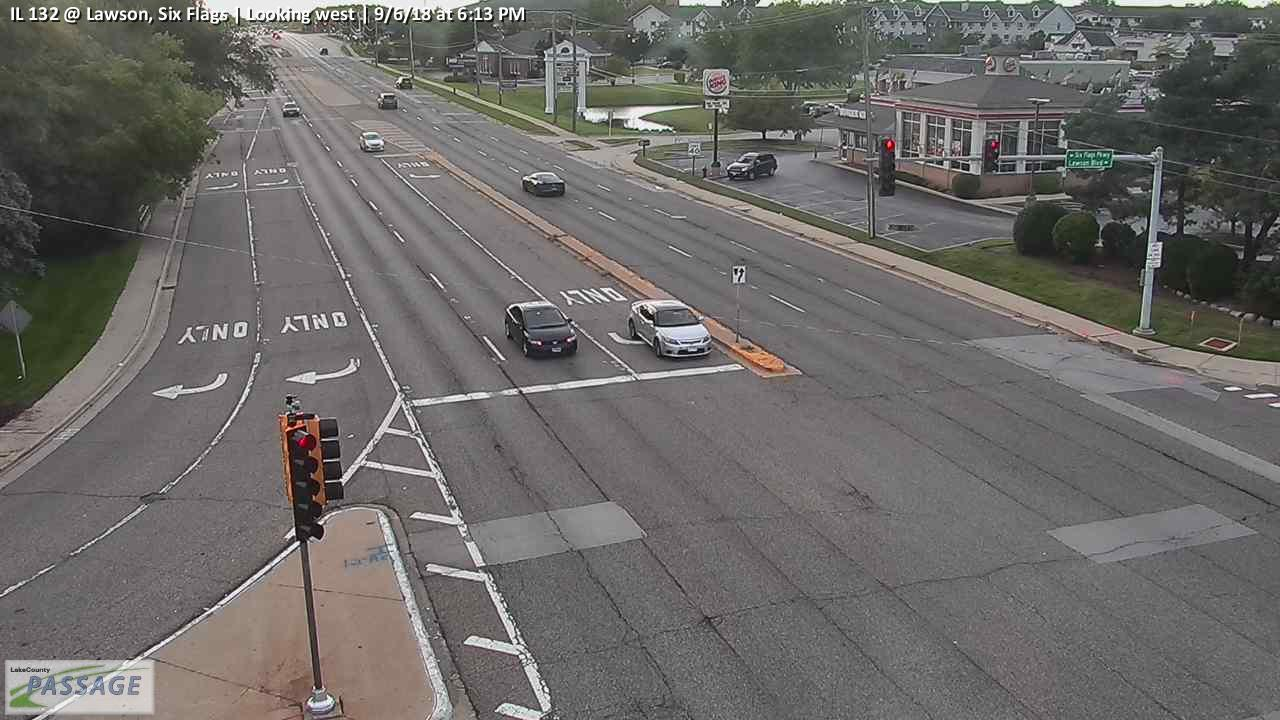SUV: (725, 151, 777, 180), (359, 131, 385, 152), (376, 92, 397, 109), (281, 100, 300, 117), (394, 75, 412, 89)
Sedan: (628, 297, 713, 359), (504, 300, 578, 358), (522, 170, 566, 197)
